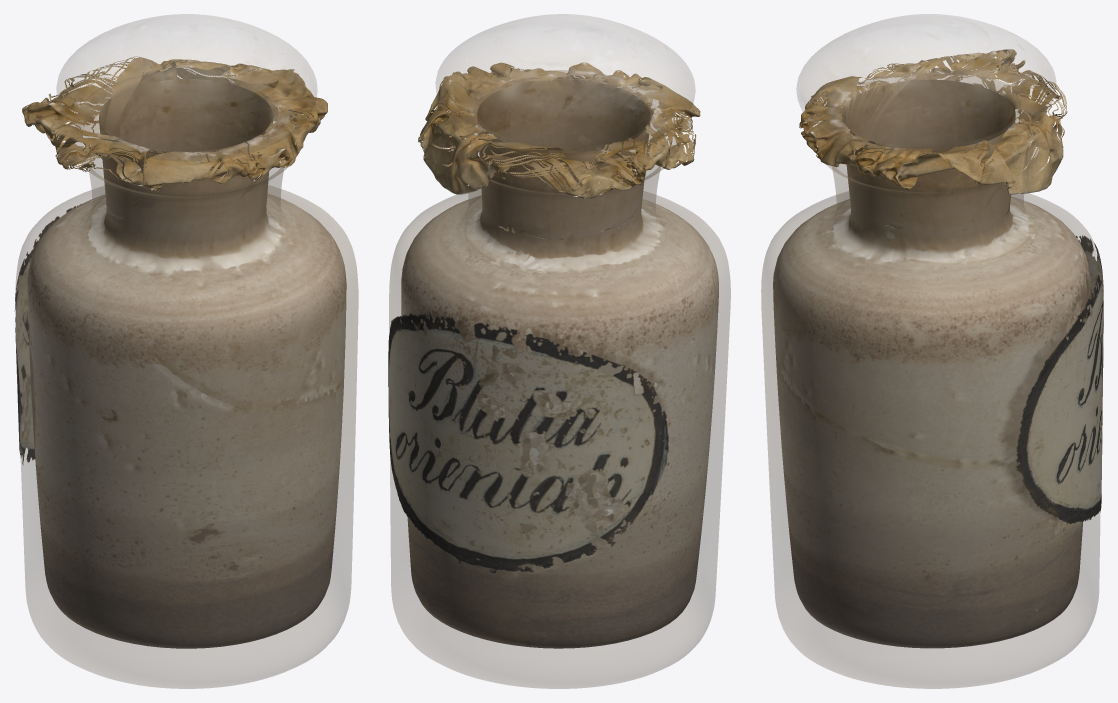
File: sauce_glass_bottle.glb
3 renders of one model, left to right at view 1: azimuth 30°, elevation 25°; view 2: azimuth 150°, elevation 25°; view 3: azimuth 270°, elevation 25°, orthographic.
Parts seen in each view (by area): view 1: Object_13; view 2: Object_13; view 3: Object_13.
Part boxes in pixels (<box>): Object_13: <box>14,14,358,688</box>; Object_13: <box>388,14,730,688</box>; Object_13: <box>761,14,1103,688</box>.
Bounding box in the file's own units: 0.4782 × 0.9238 × 0.4782.
5 materials, 5 textured.
